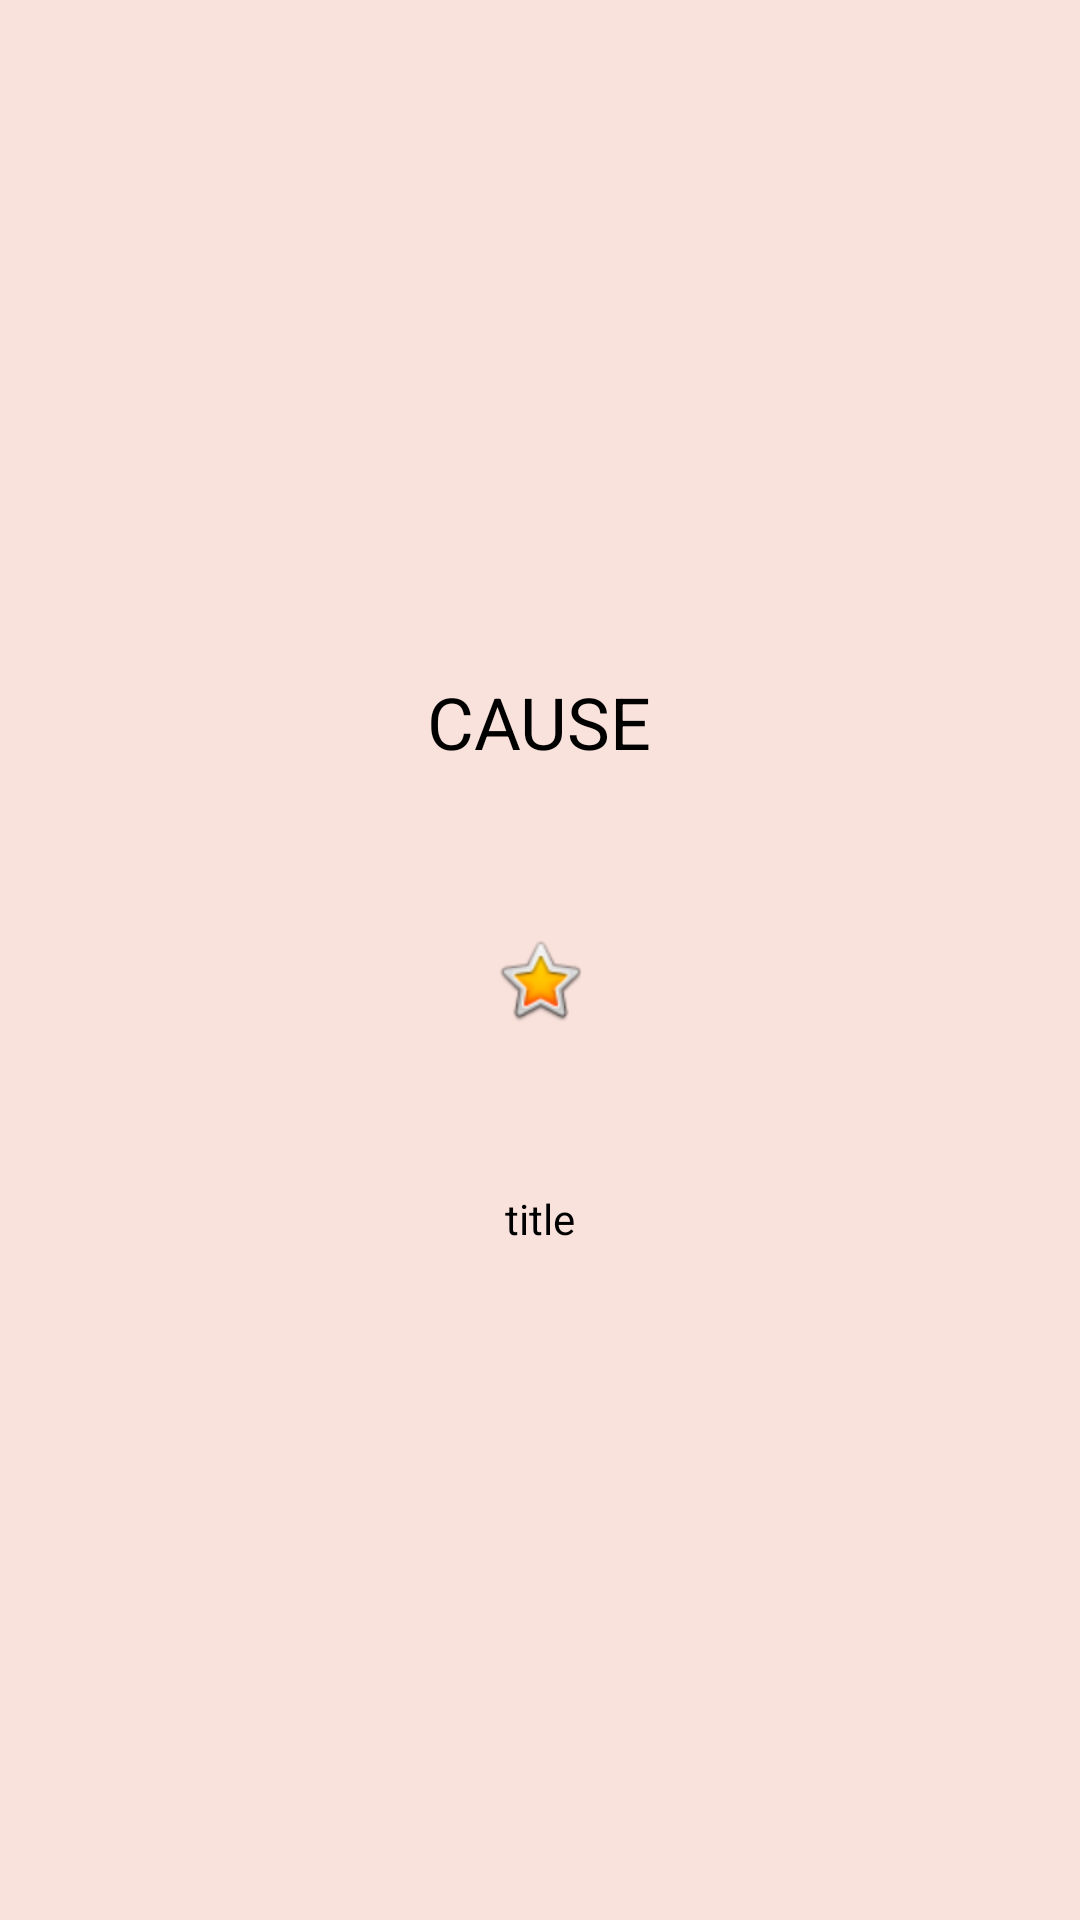

Named icons in this screenshot (1080x1920) and their centers, [x,y]:
star on: [541,981]
